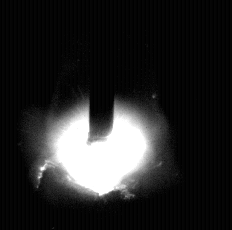arame: (90, 0, 114, 142)
poca: (41, 0, 167, 230)
